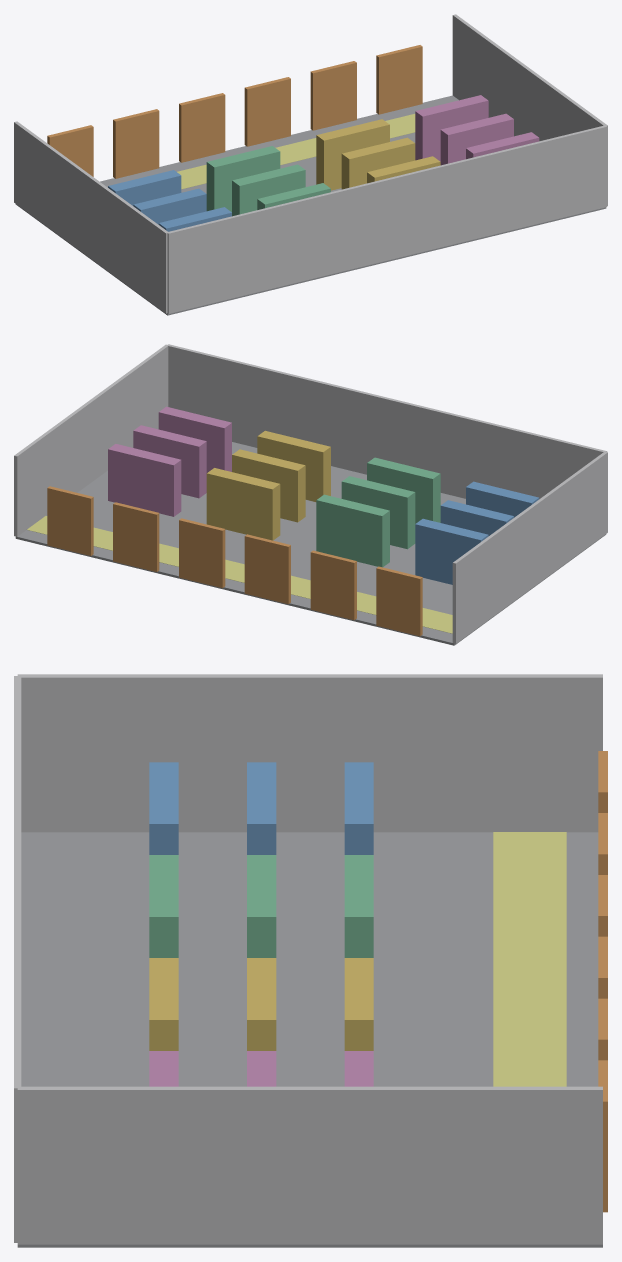
Rendered from layout_current.glb.
3 renders of one model, top to bottom at view 1: azimuth 30°, elevation 25°; view 2: azimuth 150°, elevation 25°; view 3: azimuth 270°, elevation 25°, orthographic. The views are drawn at different scales.
Visible parts, largest first — view 1: geometry_0; view 2: geometry_0; view 3: geometry_0.
Boxes of the visible parts, <box> form: geometry_0: <box>14,14,607,315</box>; geometry_0: <box>14,344,607,645</box>; geometry_0: <box>14,674,607,1247</box>.
Size of the model in its own units: 40.3 by 7.2 by 24.35.
